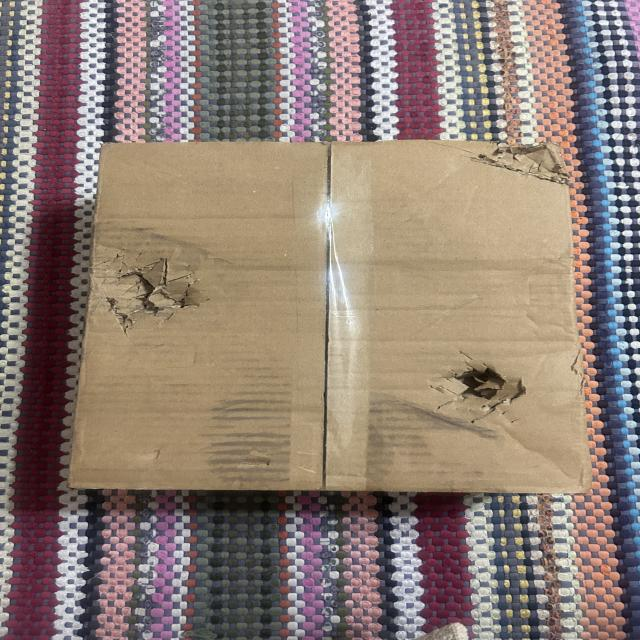damaged: (65, 128, 602, 502), (82, 218, 214, 350), (423, 340, 531, 424), (468, 130, 589, 199)
